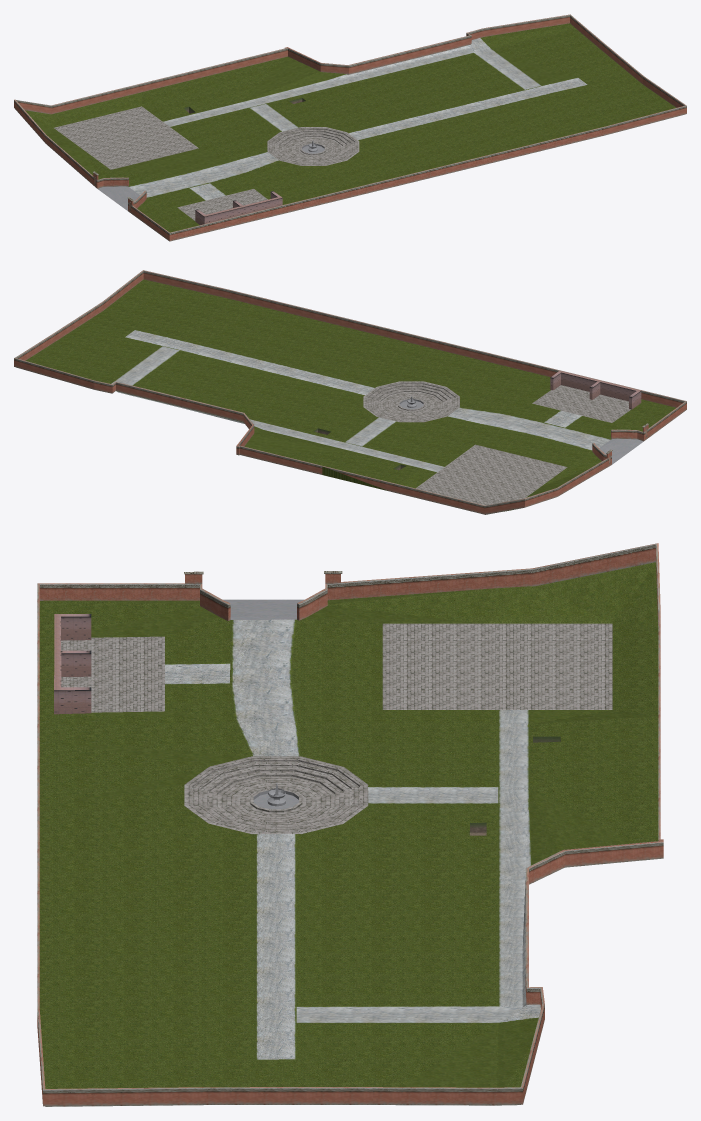
Rendered from graveyard01_lawn.obj.
The picture shows the model from 3 angles, top to bottom: view 1: azimuth 30°, elevation 25°; view 2: azimuth 150°, elevation 25°; view 3: azimuth 270°, elevation 25°; orthographic projection. The views are drawn at different scales.
Visible parts, largest first — view 1: Graveyard01_LAwN; view 2: Graveyard01_LAwN; view 3: Graveyard01_LAwN.
Boxes of the visible parts, x1,y1,x2,y2 form: Graveyard01_LAwN: [14, 14, 686, 241]; Graveyard01_LAwN: [14, 270, 686, 514]; Graveyard01_LAwN: [37, 543, 663, 1106].
Bounding box in the file's own units: 146 × 9.06 × 75.94.
